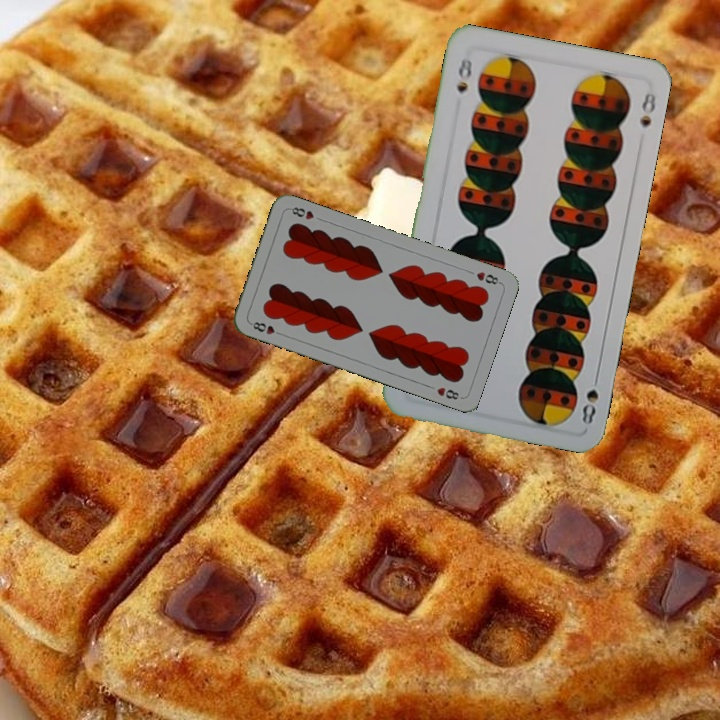H8: (246, 317, 286, 338), (472, 267, 504, 287)
S8: (578, 369, 602, 427), (452, 54, 475, 96)
